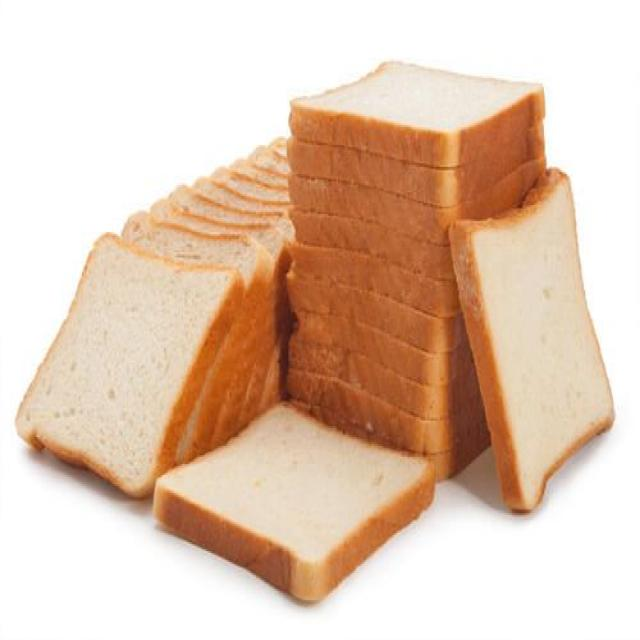sliced bread: (17, 234, 243, 496), (451, 171, 614, 511), (154, 405, 433, 601), (123, 214, 277, 462), (290, 62, 545, 166), (290, 160, 545, 244), (288, 138, 543, 206), (287, 369, 485, 453), (290, 334, 479, 418), (287, 272, 465, 351), (295, 311, 471, 384), (291, 243, 460, 319), (290, 207, 453, 279), (428, 419, 490, 482)
